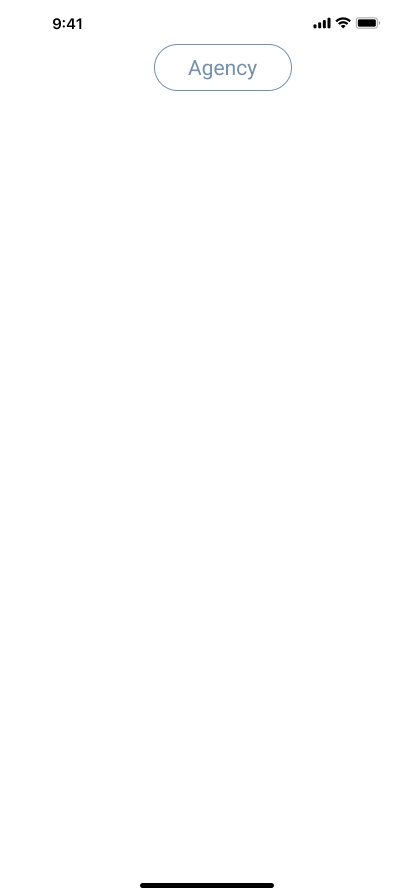Buttons: (154, 44, 300, 91)
Home Indicator: (0, 862, 414, 896)
Status Bar: (0, 0, 414, 44)
